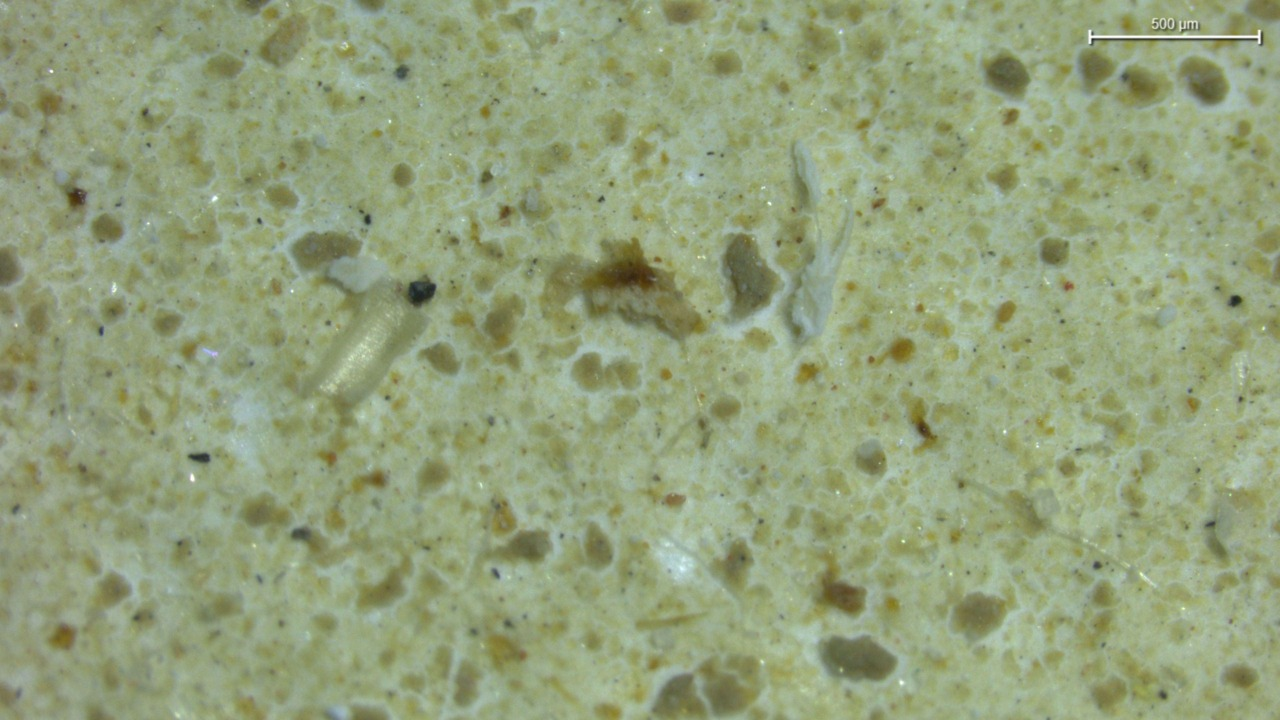microplastic_fragment: (299, 278, 429, 407), (786, 141, 851, 344), (327, 256, 386, 293), (1032, 488, 1060, 520)
